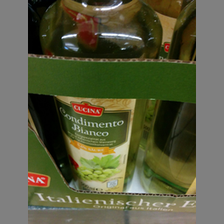vinegar: (42, 1, 163, 201)
